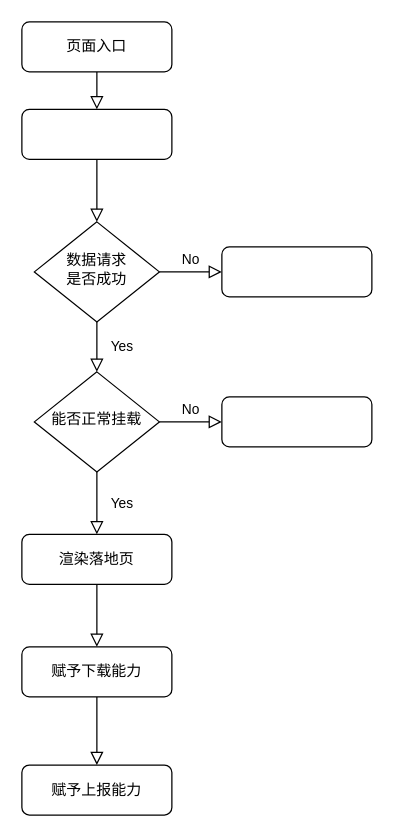
Some shapes in this 394 by 838 pixel diagram are drawn without their labels. Here are the shapes that lost their labels. From the top down, the box of each, then its label:
(21, 108, 172, 159): 请求数据
(221, 246, 372, 297): 渲染状态页
(221, 396, 372, 447): 渲染错误页
